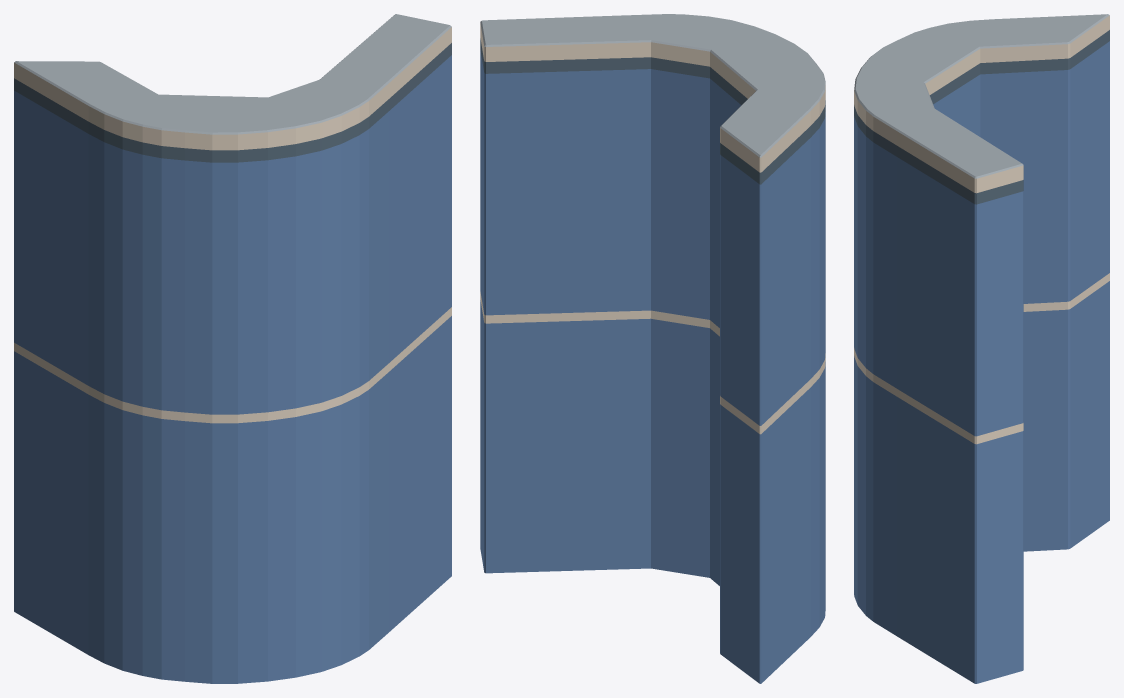
Rendered from lv-fontainebleau.glb.
3 views of the same model, side by side, from view 1: azimuth 30°, elevation 25°; view 2: azimuth 150°, elevation 25°; view 3: azimuth 270°, elevation 25° (orthographic). The views are drawn at different scales.
Visible parts, largest first — view 1: Fontainebleau Las Vegas; view 2: Fontainebleau Las Vegas; view 3: Fontainebleau Las Vegas.
Part boxes in pixels (bbox=[...]): Fontainebleau Las Vegas: bbox=[14, 14, 451, 683]; Fontainebleau Las Vegas: bbox=[480, 14, 825, 683]; Fontainebleau Las Vegas: bbox=[854, 14, 1109, 683].
Bounding box in the file's own units: 155 × 224 × 102.
